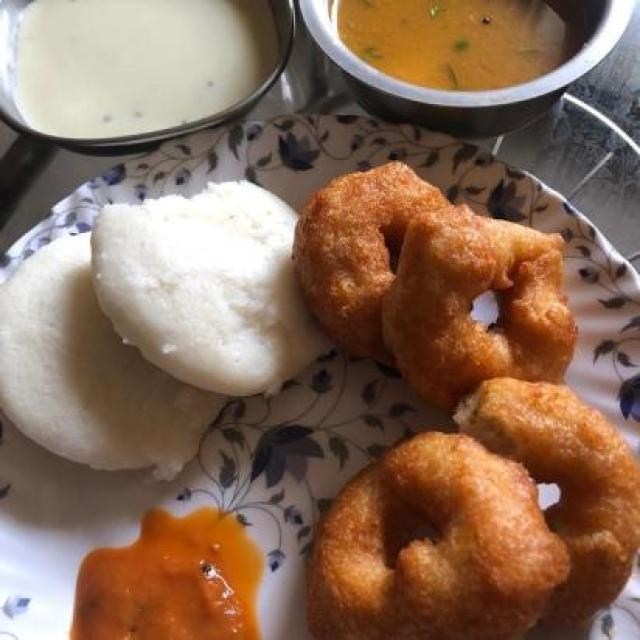idli: (0, 195, 227, 507), (77, 173, 380, 406)
sambhar: (296, 0, 598, 124)
vada: (290, 413, 572, 640), (436, 369, 640, 619), (386, 191, 607, 421), (292, 144, 476, 394)
